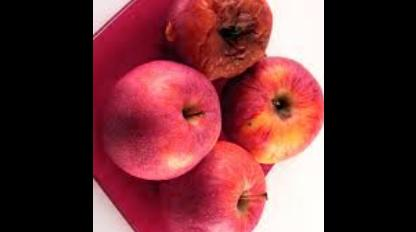defect: (159, 0, 289, 93)
